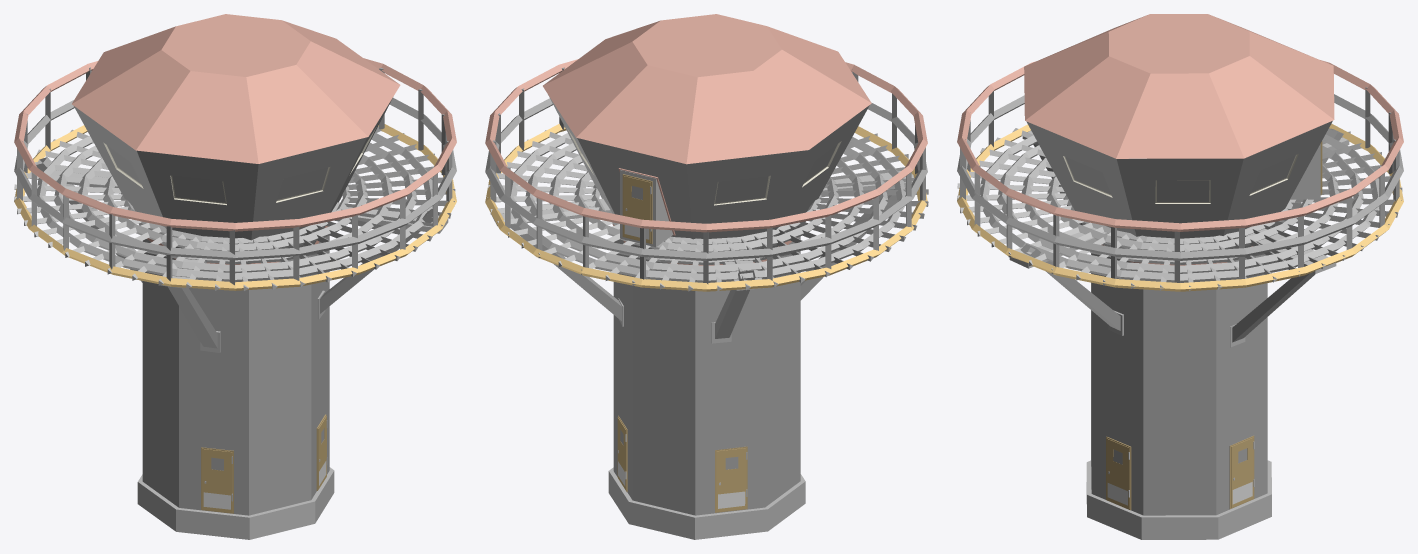
File: wall3.fbx
3 renders of one model, left to right at view 1: azimuth 30°, elevation 25°; view 2: azimuth 150°, elevation 25°; view 3: azimuth 270°, elevation 25°, orthographic.
Parts seen in each view (by area): view 1: Cube_4; view 2: Cube_4; view 3: Cube_4.
Part boxes in pixels (<box>): Cube_4: <box>14,14,456,539</box>; Cube_4: <box>485,14,928,539</box>; Cube_4: <box>957,14,1403,539</box>.
Size of the model in its own units: 1331 by 1497 by 1327.
